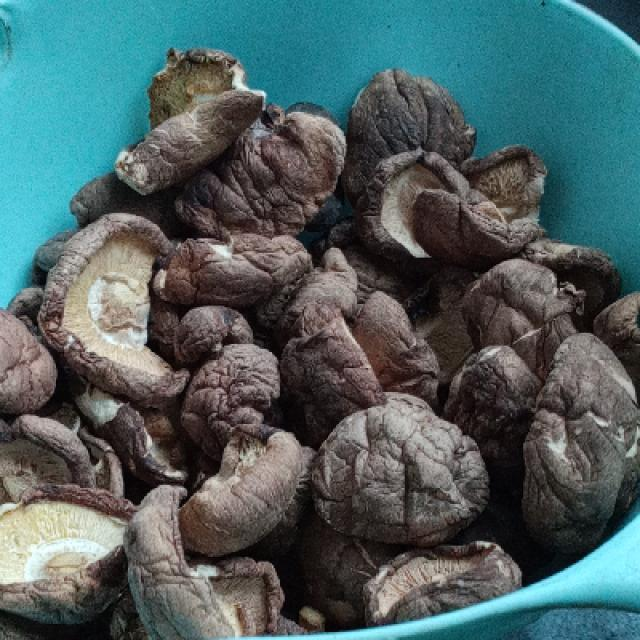Lentinus edodes: (47, 214, 192, 395), (323, 395, 492, 543), (536, 330, 637, 543), (0, 482, 154, 621), (114, 50, 266, 189), (205, 102, 347, 242), (361, 540, 524, 617), (368, 146, 473, 263)
